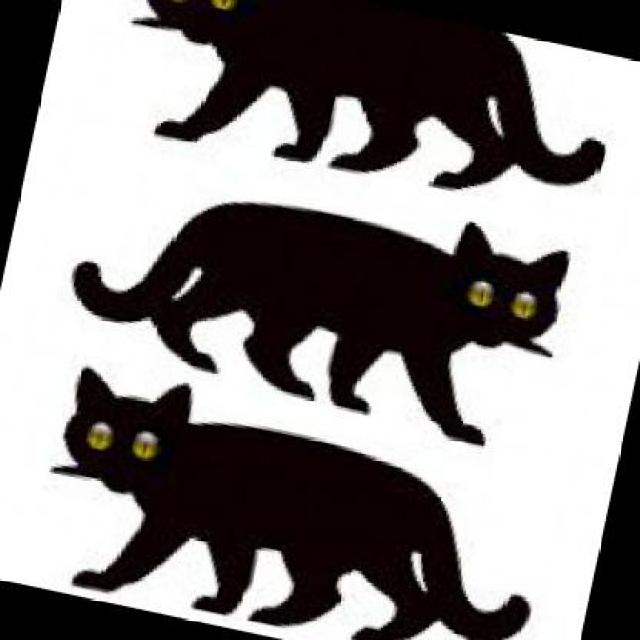animals: (41, 134, 598, 448), (20, 358, 569, 638), (84, 0, 638, 245)
